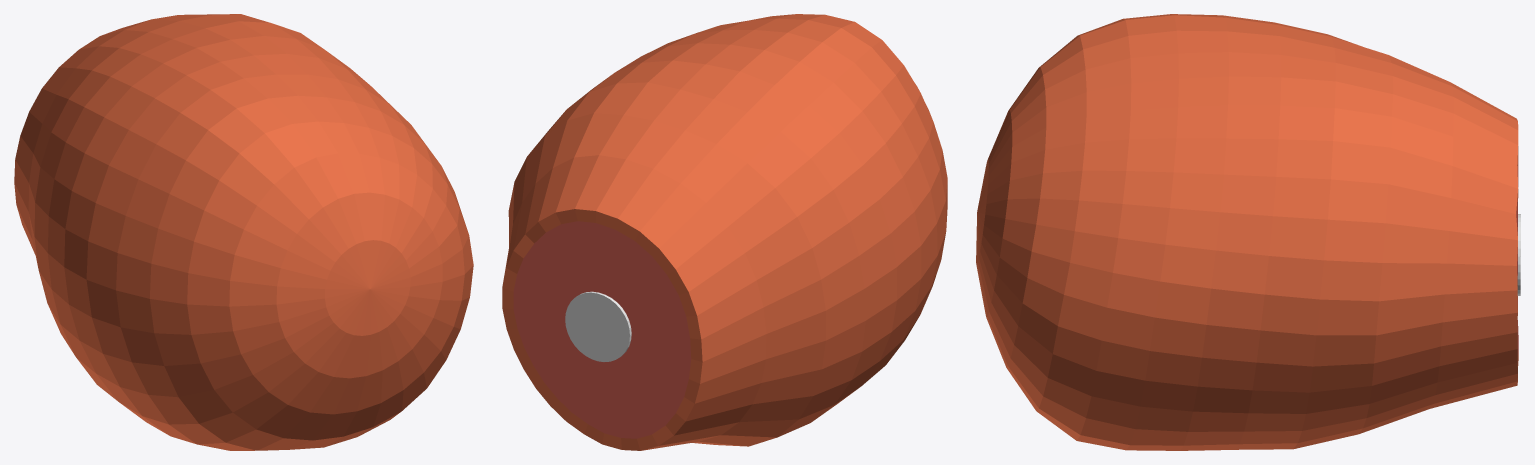
The model's file is ChikenLeft.fbx.
The picture shows the model from 3 angles, left to right: view 1: azimuth 30°, elevation 25°; view 2: azimuth 150°, elevation 25°; view 3: azimuth 270°, elevation 25°; orthographic projection. The views are drawn at different scales.
Visible parts, largest first — view 1: Сфера; view 2: Сфера; view 3: Сфера.
Part boxes in pixels (x1,y1,x2,y2): Сфера: (14,14,473,450); Сфера: (502,14,947,450); Сфера: (976,14,1520,450).
Size of the model in its own units: 156 by 160 by 199.
